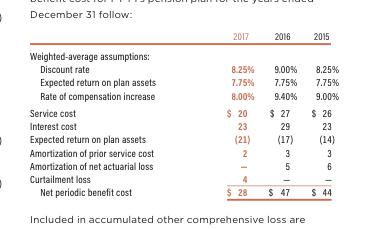table: (29, 29, 337, 198)
table column: (29, 29, 190, 198), (190, 29, 260, 198), (260, 29, 303, 198), (303, 29, 337, 198)
table column header: (29, 29, 337, 45)
table projected row header: (29, 45, 337, 61)
table row: (29, 29, 337, 45), (29, 45, 337, 61), (29, 88, 337, 103), (29, 103, 337, 118), (29, 74, 337, 88), (29, 131, 337, 145), (29, 184, 337, 198), (29, 61, 337, 74), (29, 118, 337, 131), (29, 145, 337, 158), (29, 158, 337, 171), (29, 171, 337, 184)
